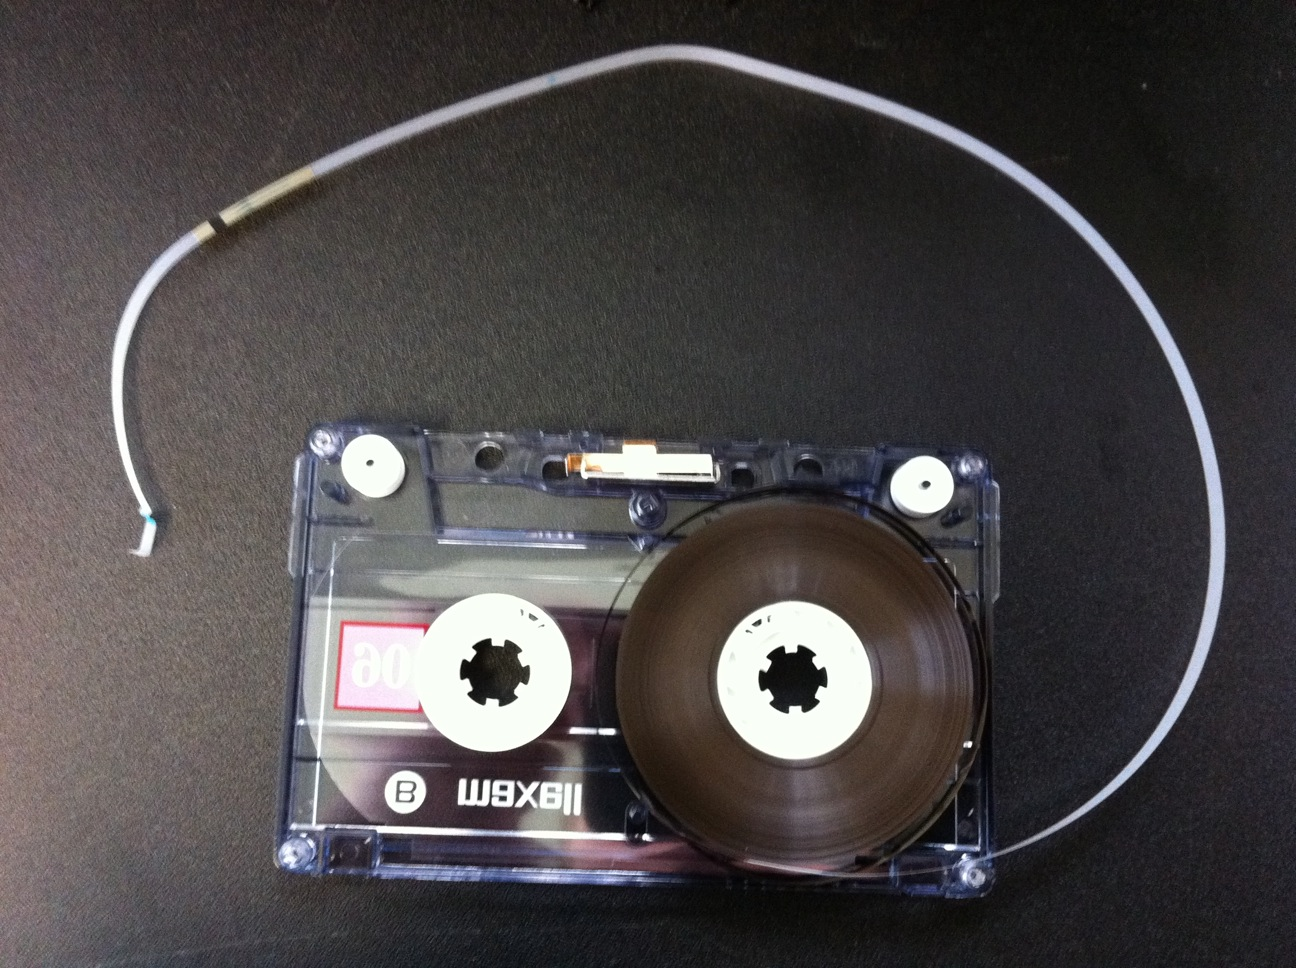Nonrec_Other: (243, 404, 1118, 939)
